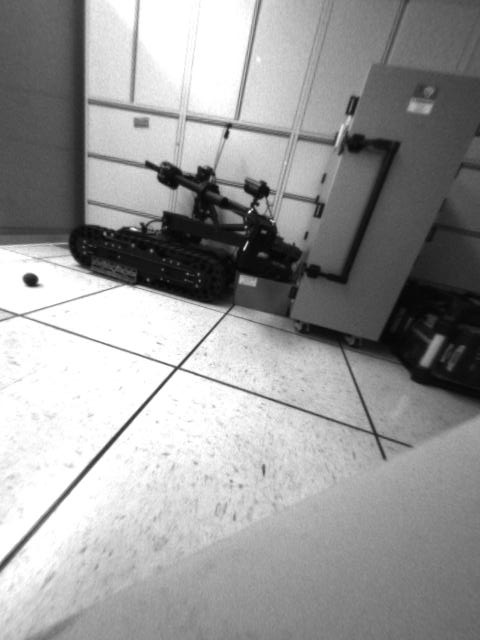dogtoy: (17, 266, 43, 292)
